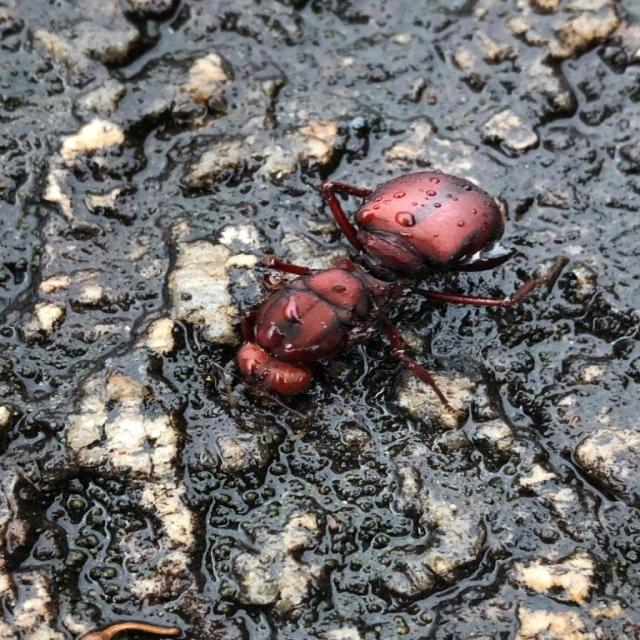Alive-Female-Dealate: (209, 172, 570, 420)
